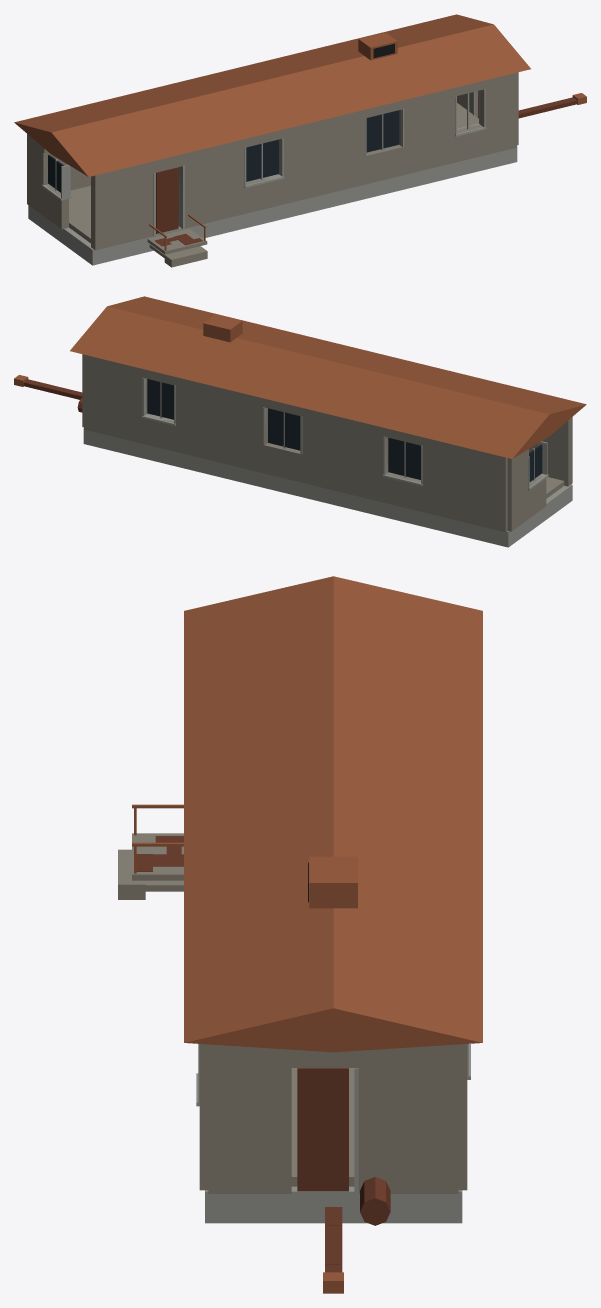
The model's file is GB_Trailer_Damaged_01.glb.
The picture shows the model from 3 angles, top to bottom: view 1: azimuth 30°, elevation 25°; view 2: azimuth 150°, elevation 25°; view 3: azimuth 270°, elevation 25°; orthographic projection. The views are drawn at different scales.
Visible parts, largest first — view 1: GB_Trailer_Damaged_01; view 2: GB_Trailer_Damaged_01; view 3: GB_Trailer_Damaged_01.
Boxes of the visible parts, <box> form: GB_Trailer_Damaged_01: <box>14,14,586,267</box>; GB_Trailer_Damaged_01: <box>14,296,586,547</box>; GB_Trailer_Damaged_01: <box>118,576,482,1293</box>.
Size of the model in its own units: 17.7 by 3.95 by 5.25.
1 material, 1 textured.
